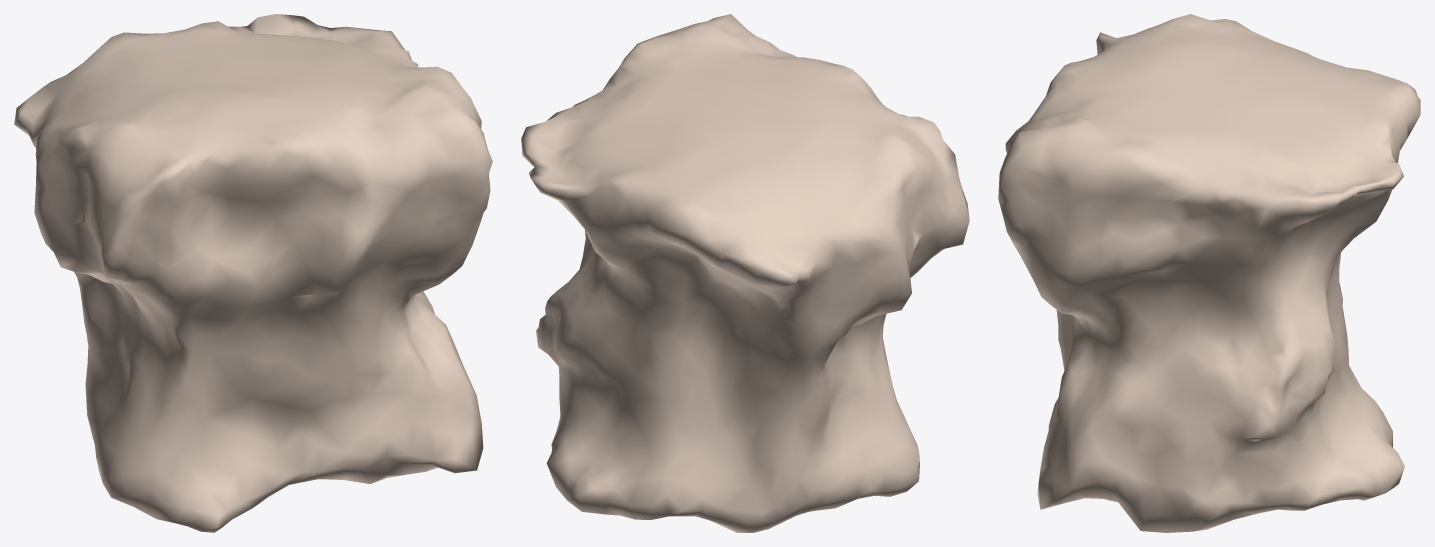
File: Rock_10.fbx
3 views of the same model, side by side, from view 1: azimuth 30°, elevation 25°; view 2: azimuth 150°, elevation 25°; view 3: azimuth 270°, elevation 25° (orthographic). The views are drawn at different scales.
Parts seen in each view (by area): view 1: Rock_10; view 2: Rock_10; view 3: Rock_10.
Part boxes in pixels (box(x1,y1,x2,y2)): Rock_10: box(14, 14, 492, 532); Rock_10: box(521, 14, 969, 532); Rock_10: box(998, 14, 1420, 532).
Size of the model in its own units: 172 by 170 by 163.
